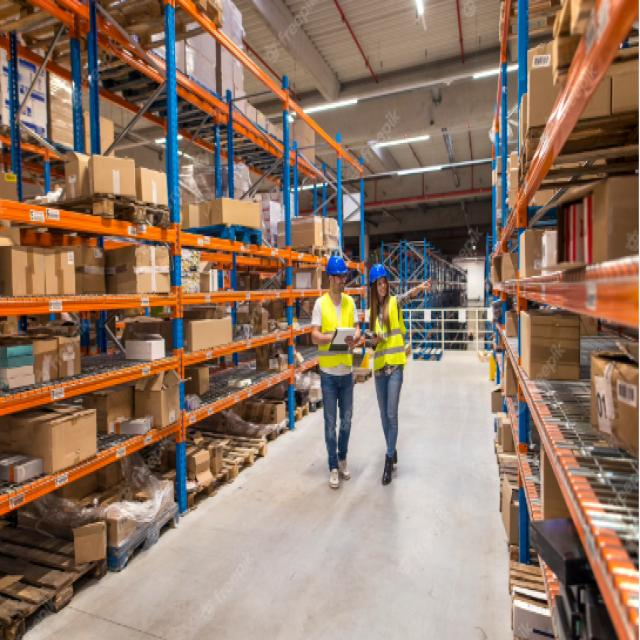hard_hat: (324, 253, 349, 294), (366, 262, 391, 302)
shoes: (381, 449, 400, 487)
vest: (314, 294, 358, 371), (367, 296, 408, 372)
